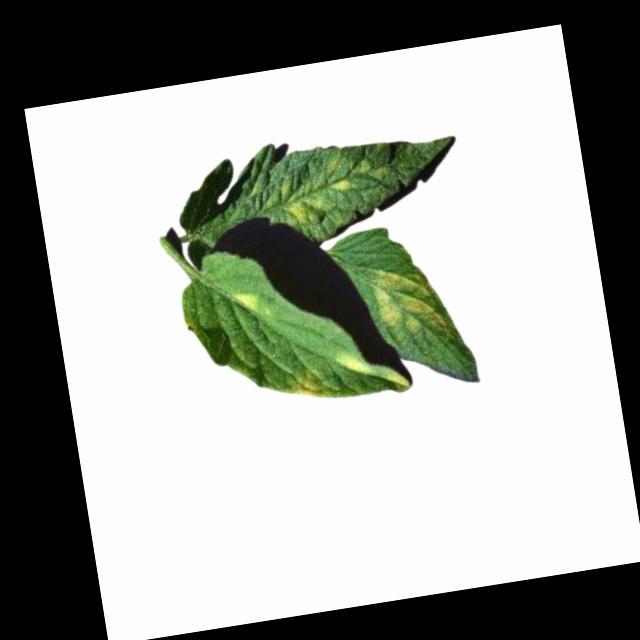Leaf_Mold: (273, 148, 395, 227), (371, 262, 449, 342), (284, 366, 324, 403), (232, 288, 263, 319), (334, 349, 364, 379)
